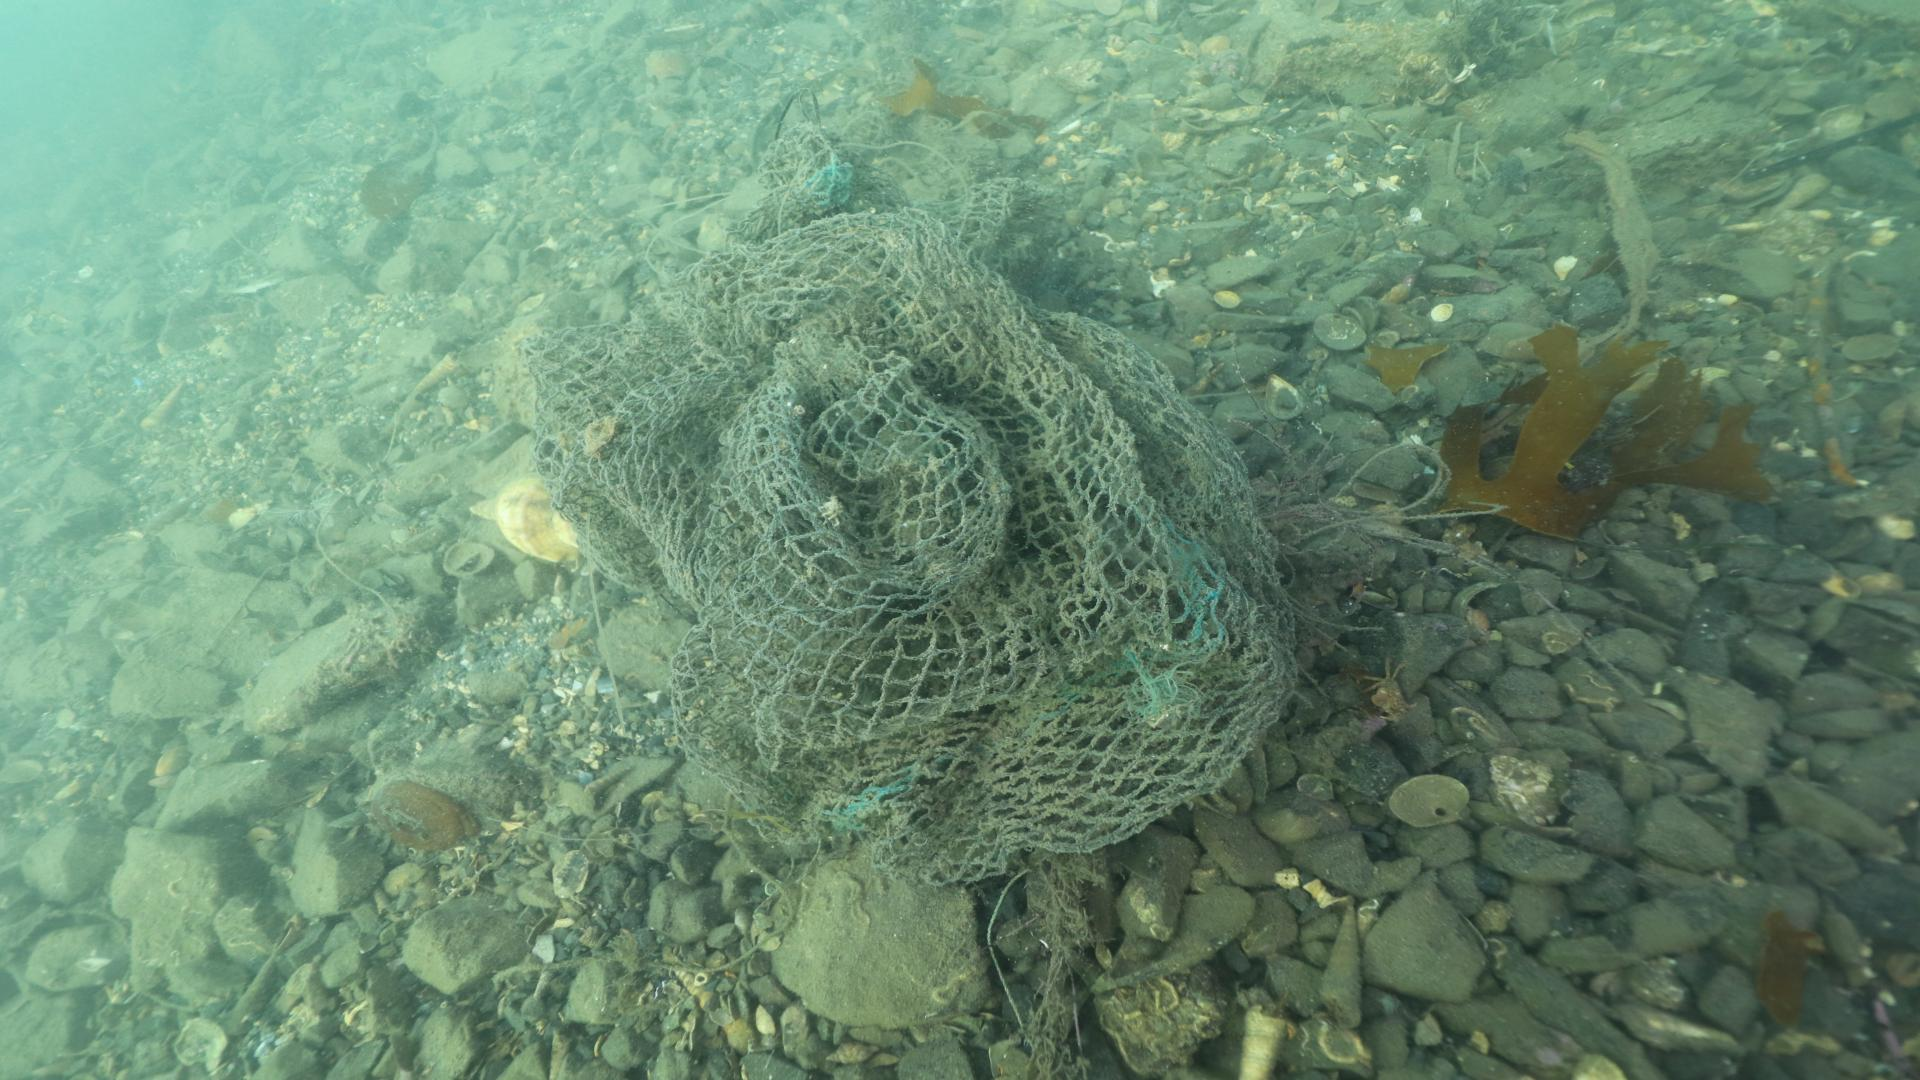fish net: (525, 123, 1300, 887)
